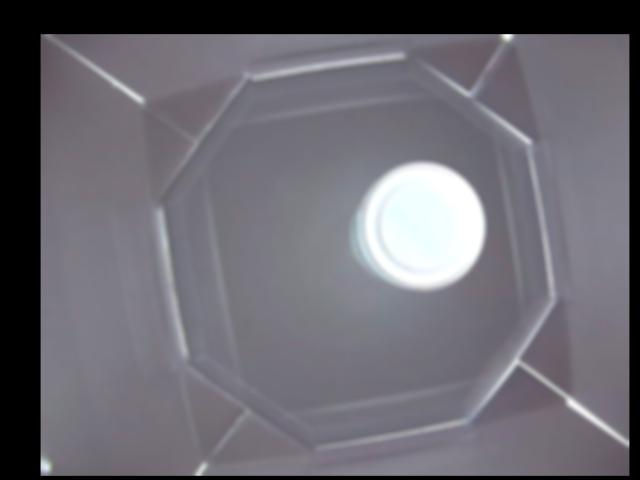Bottle: (353, 161, 489, 289)
